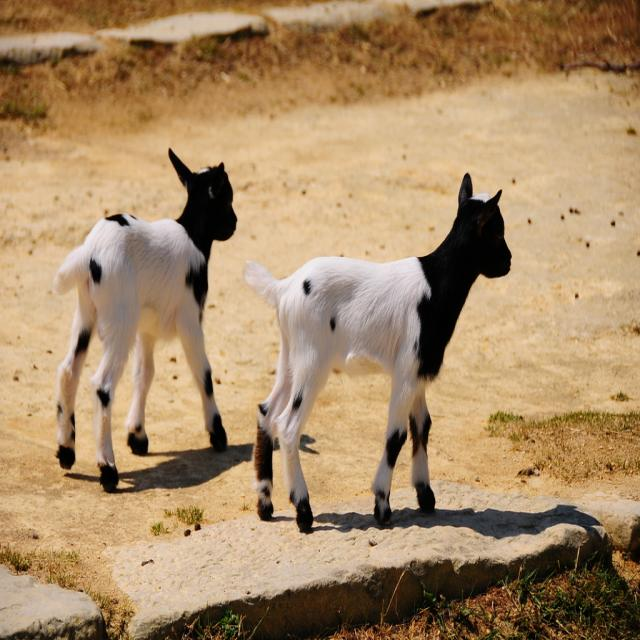Goat: (245, 174, 513, 529), (55, 147, 239, 495)
